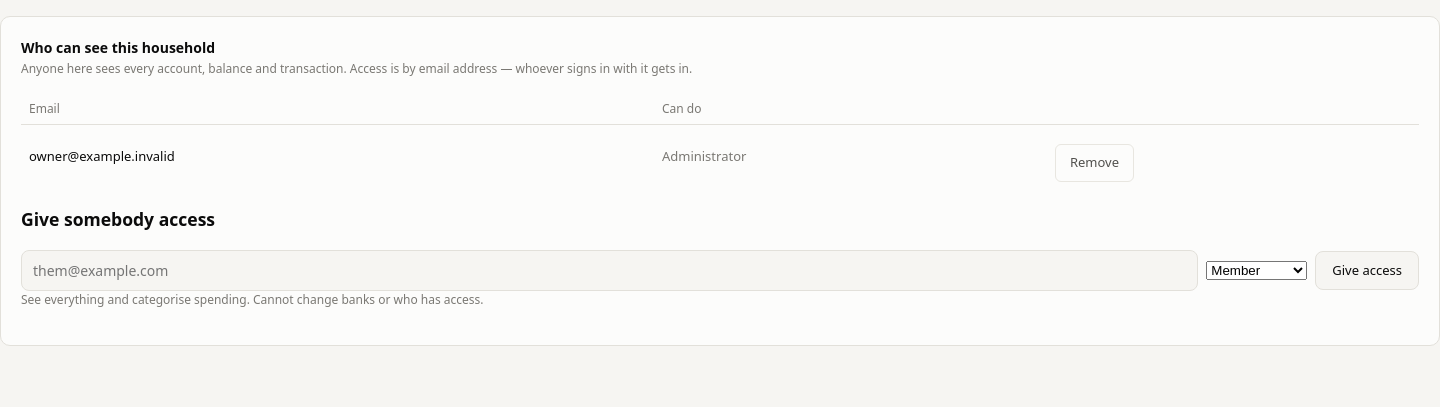
Test: giving somebody access › reports a refusal and keeps the list on screen
Expected: the text "owner@example.invalid" is shown, [21,124,654,188]
In the field named "Email address": (610, 270) [21,250,1198,291], type "them@example.invalid"
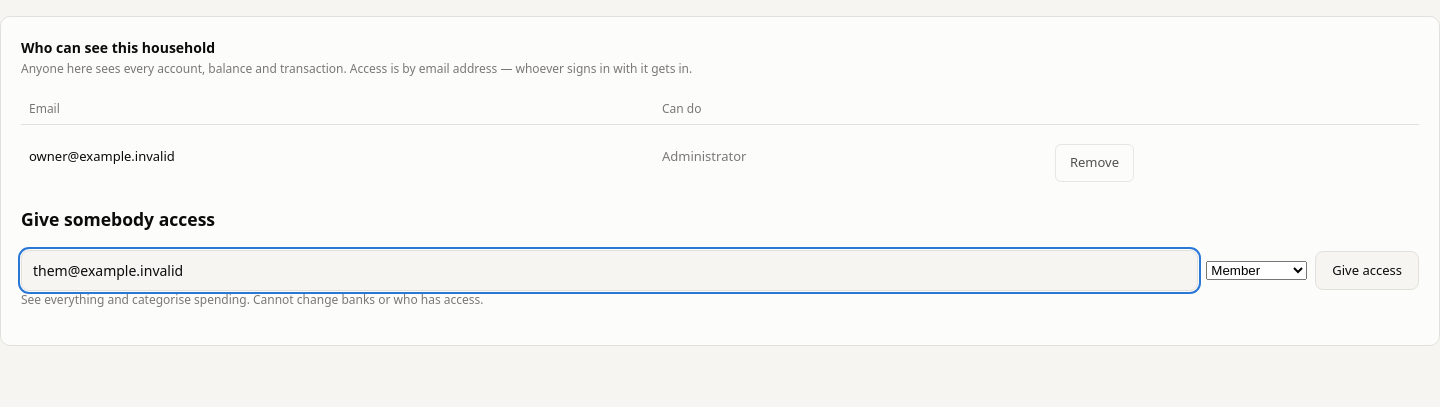
Click the button "Give access": (1367, 270) [1315,251,1419,290]
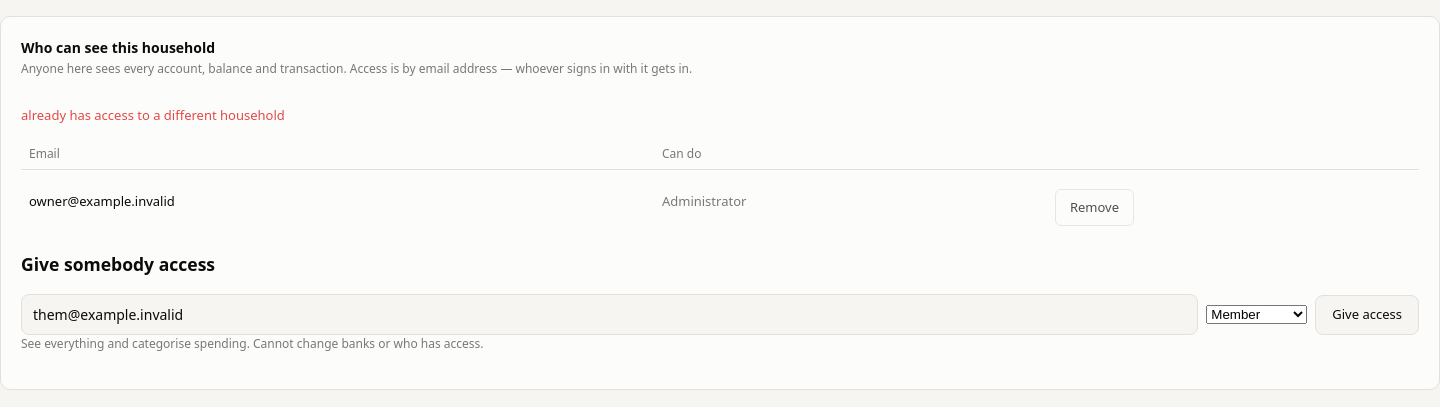
Expected: the text "owner@example.invalid" is shown, [21,169,654,233]
Now the text "already has access to a different household" is shown, box [21,106,285,124]
